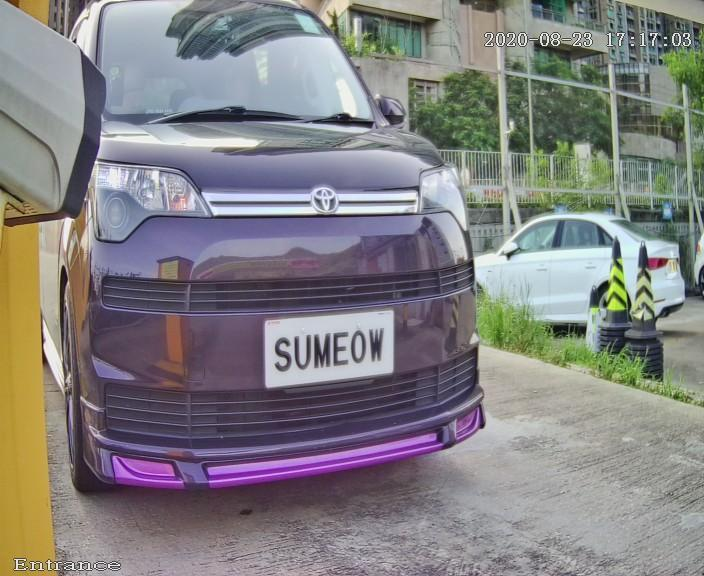License Plate: (217, 273, 416, 420)
